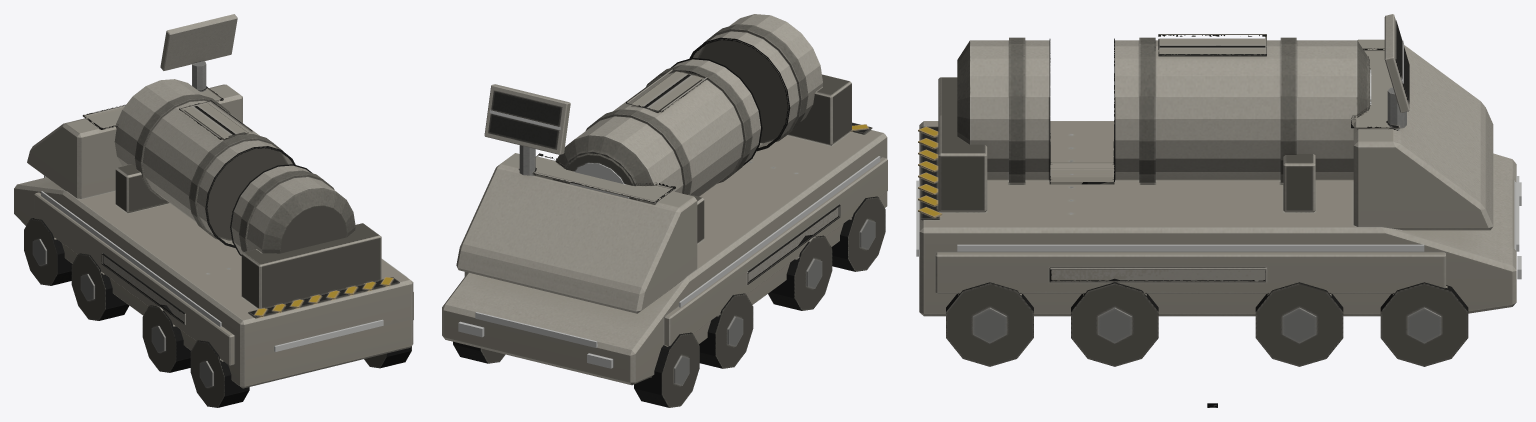
Rendered from ord_custodian.fbx.
3 renders of one model, left to right at view 1: azimuth 30°, elevation 25°; view 2: azimuth 150°, elevation 25°; view 3: azimuth 270°, elevation 25°, orthographic. The views are drawn at different scales.
Visible parts, largest first — view 1: base_bar, launcher_bar, radar_bar, wheelL4_bar, wheelL2_bar, wheelL3_bar, wheelL1_bar, base_glow_running_bar, wheelR4_bar; view 2: base_bar, launcher_bar, radar_bar, wheelL1_bar, wheelL3_bar, wheelL2_bar, wheelL4_bar, base_glow_running_bar, launcher_glow_weapon_bar, wheelR1_bar, base_glow_head_bar; view 3: base_bar, launcher_bar, wheelR1_bar, wheelR2_bar, wheelR3_bar, wheelR4_bar, base_glow_running_bar, radar_bar.
Part boxes in pixels (<box>): base_bar: <box>14,61,413,388</box>; launcher_bar: <box>114,79,355,255</box>; radar_bar: <box>160,14,237,70</box>; wheelL4_bar: <box>190,340,249,407</box>; wheelL2_bar: <box>71,253,129,320</box>; wheelL3_bar: <box>142,304,190,372</box>; wheelL1_bar: <box>24,218,72,285</box>; base_glow_running_bar: <box>41,175,406,351</box>; wheelR4_bar: <box>364,346,411,368</box>; base_bar: <box>442,74,887,385</box>; launcher_bar: <box>553,14,822,204</box>; radar_bar: <box>484,84,570,154</box>; wheelL1_bar: <box>634,332,699,407</box>; wheelL3_bar: <box>768,234,832,310</box>; wheelL2_bar: <box>699,293,753,368</box>; wheelL4_bar: <box>831,196,885,271</box>; base_glow_running_bar: <box>475,156,880,347</box>; launcher_glow_weapon_bar: <box>570,163,628,198</box>; wheelR1_bar: <box>453,341,505,363</box>; base_glow_head_bar: <box>458,321,612,368</box>; base_bar: <box>918,39,1516,316</box>; launcher_bar: <box>957,34,1369,182</box>; wheelR1_bar: <box>1380,282,1468,366</box>; wheelR2_bar: <box>1255,282,1343,366</box>; wheelR3_bar: <box>1071,278,1158,366</box>; wheelR4_bar: <box>946,282,1033,366</box>; base_glow_running_bar: <box>916,176,1519,256</box>; radar_bar: <box>1384,14,1409,112</box>.
Size of the model in its own units: 528 by 822 by 1114.
2 materials, 2 textured.
